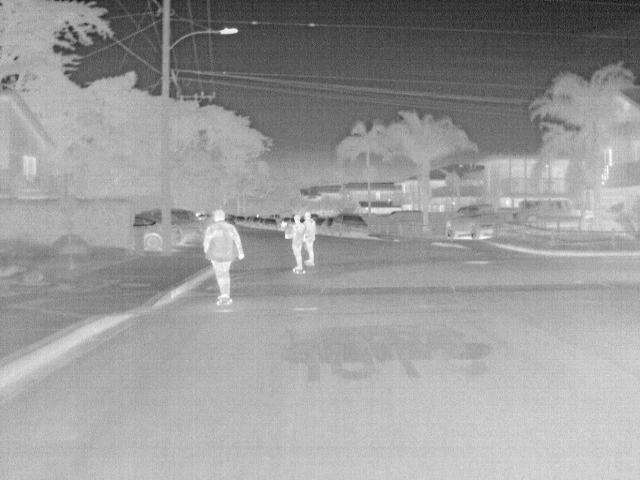car: (444, 202, 518, 240), (517, 196, 583, 224), (171, 206, 205, 246), (333, 211, 373, 239), (134, 215, 161, 249), (319, 215, 338, 235), (263, 218, 282, 232), (250, 216, 263, 228)
person: (202, 210, 246, 298), (285, 213, 309, 267), (301, 212, 319, 261)
